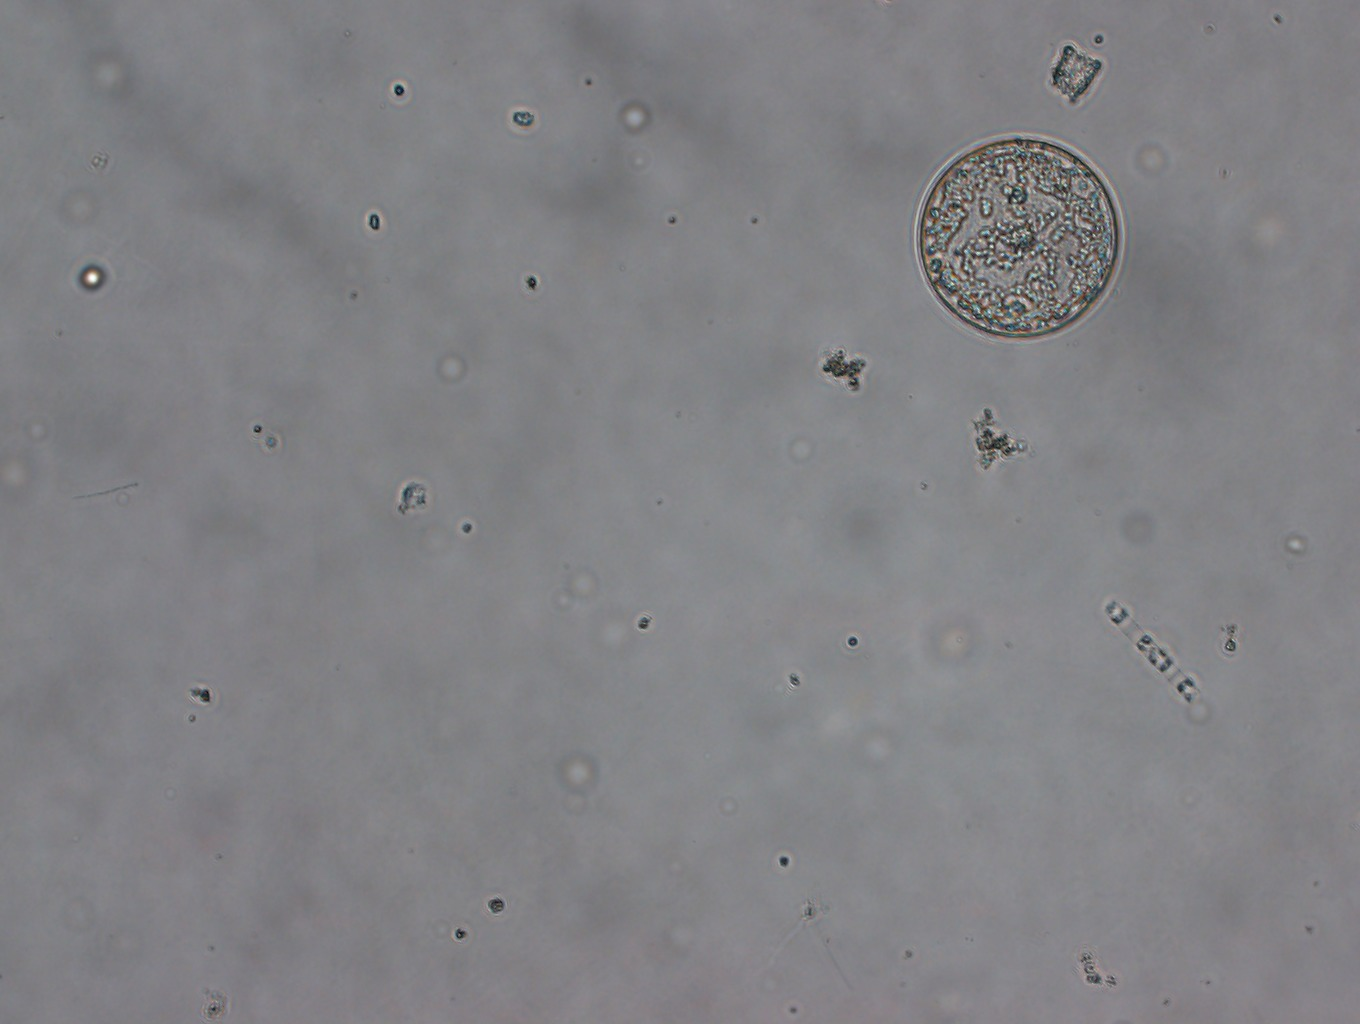coscinodiscus: (911, 130, 1126, 347)
skeletonema: (1098, 594, 1202, 708)
